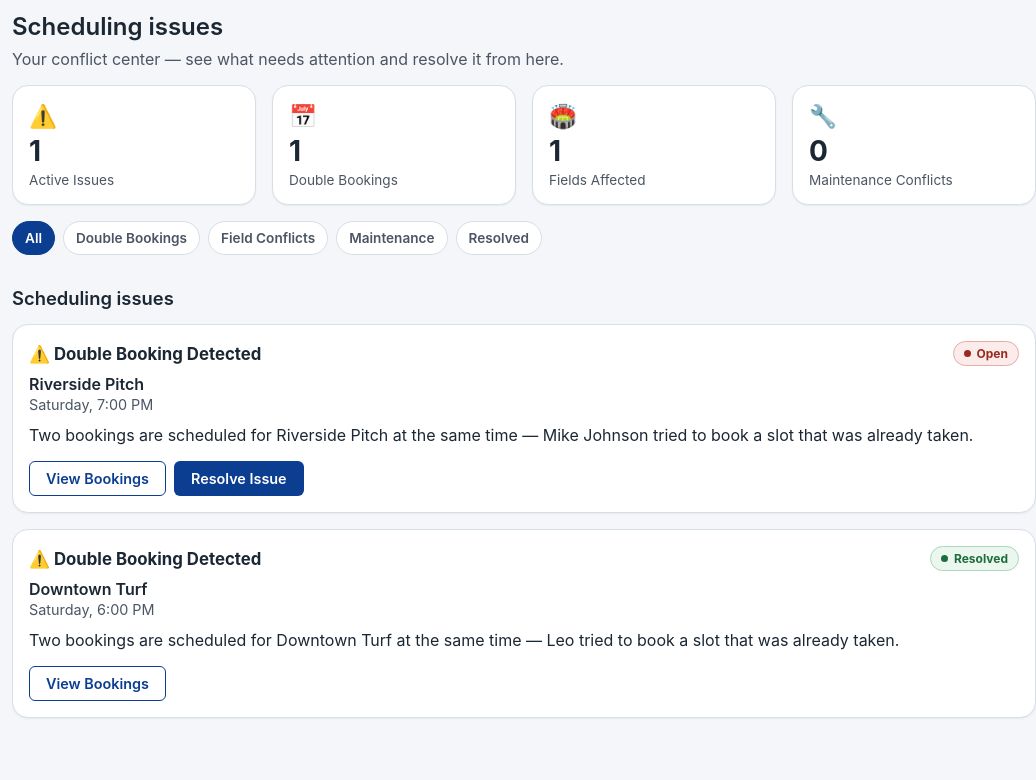
Test case: SchedulingIssuesPage › filtering by Resolved shows only resolved issues, and Maintenance always shows none
Expected: the text "⚠️ Double Booking Detected" is shown 2 times, 29,344 -> 261,364; 29,549 -> 261,569
Click the button "Resolved" at (499, 238), box 456,221 -> 542,255
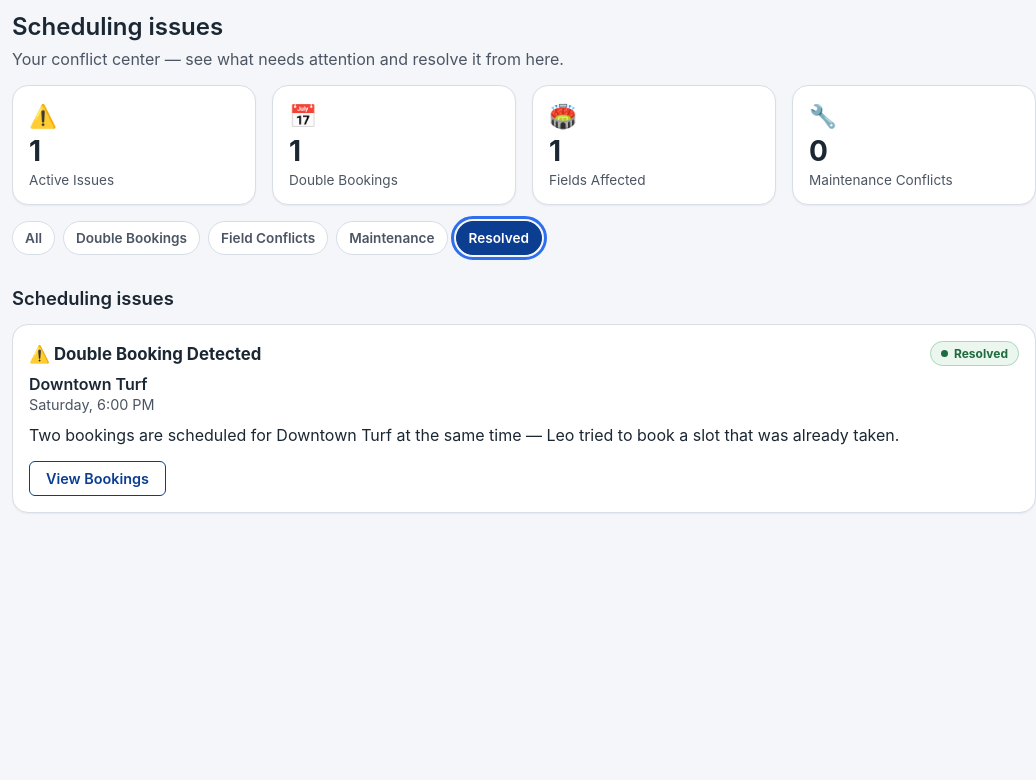
Expected: the text "Downtown Turf" is shown, 29,374 -> 148,394
Now the button "Resolve Issue" is gone
Click the button "Maintenance" at (392, 238), box 336,221 -> 448,255
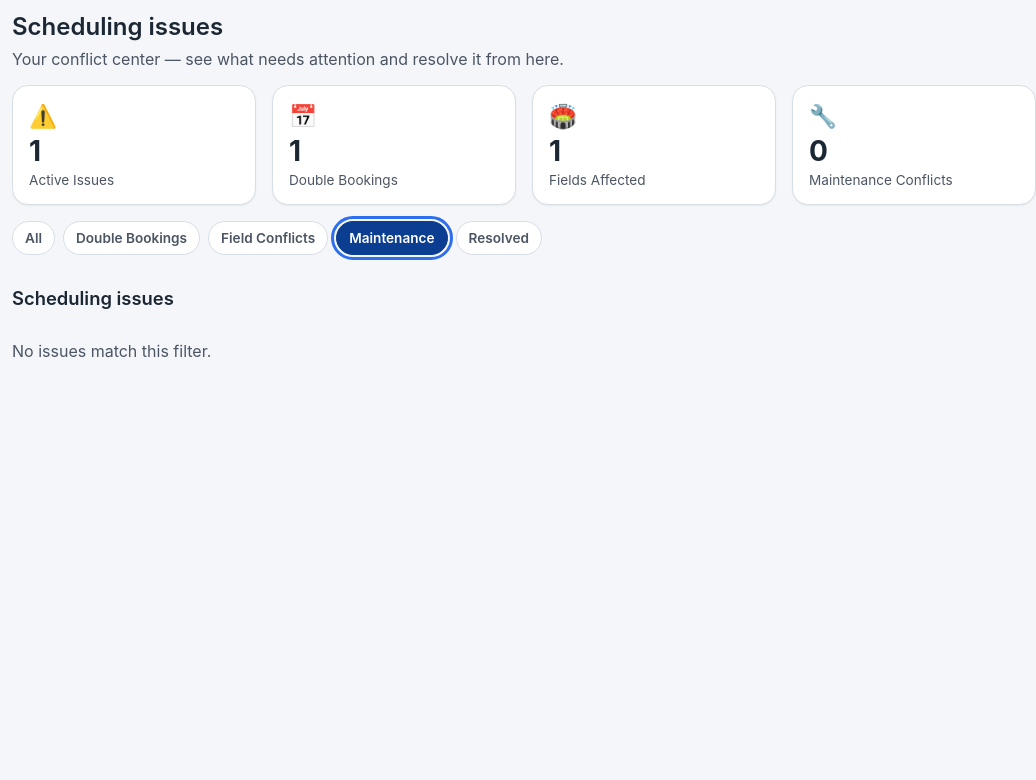
Now the text "No issues match this filter." is shown, box 12,341 -> 211,361
